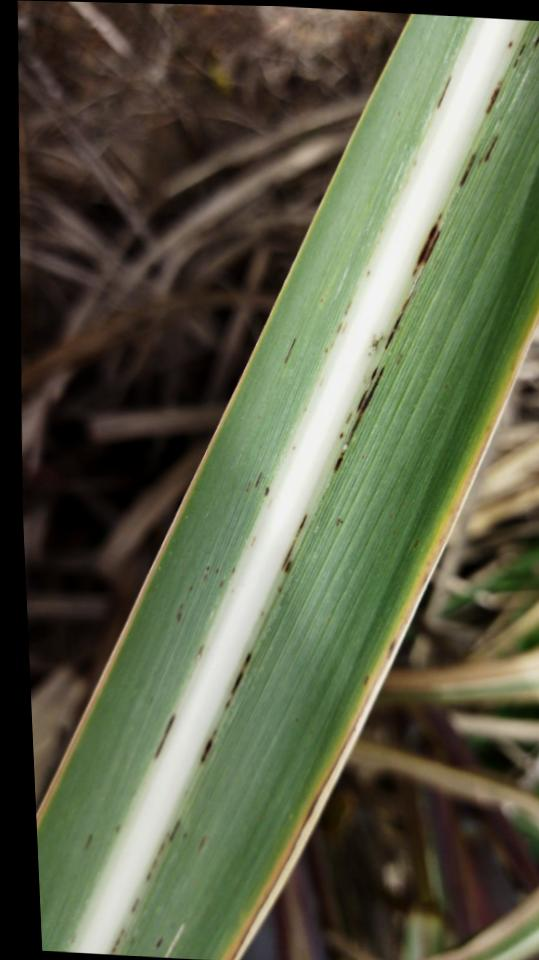Rust: (381, 210, 450, 351), (329, 363, 389, 476), (172, 564, 237, 623), (453, 130, 502, 194), (141, 817, 183, 885), (276, 509, 311, 577), (219, 650, 254, 710), (147, 710, 178, 764), (509, 27, 539, 72), (195, 725, 220, 766), (483, 77, 507, 115), (432, 72, 454, 113), (280, 335, 299, 369), (108, 924, 128, 955), (192, 834, 211, 856), (126, 897, 142, 917), (251, 470, 264, 489), (153, 935, 165, 951), (263, 485, 272, 499)
